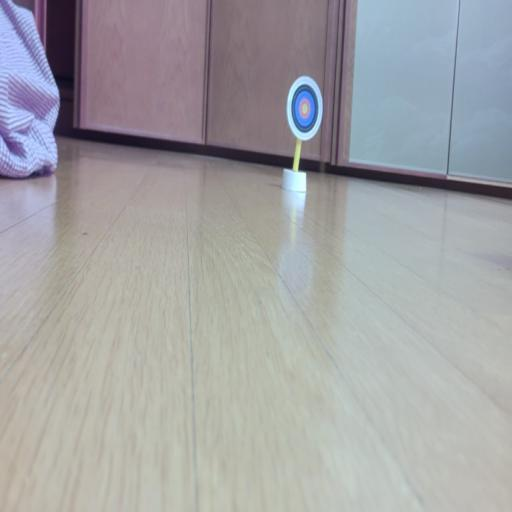target: (286, 76, 323, 141)
